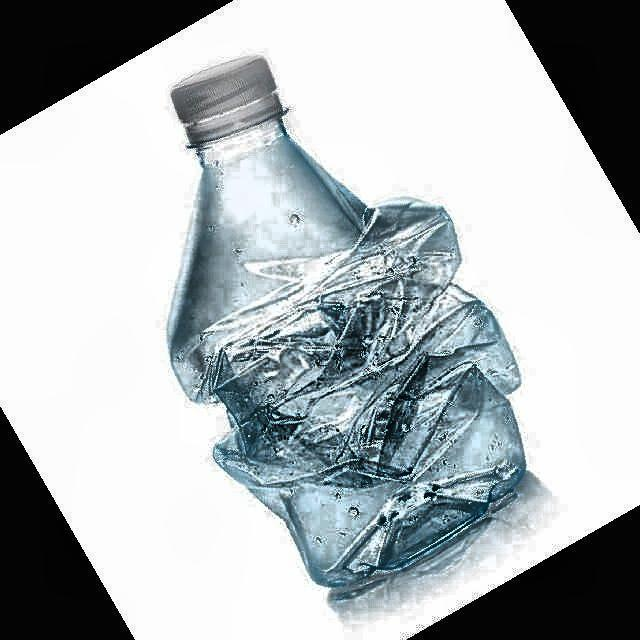plastic: (169, 58, 525, 596)
